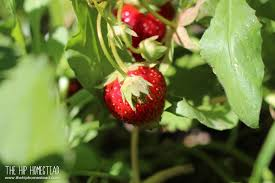ripe: (97, 62, 170, 133), (109, 3, 168, 57)
